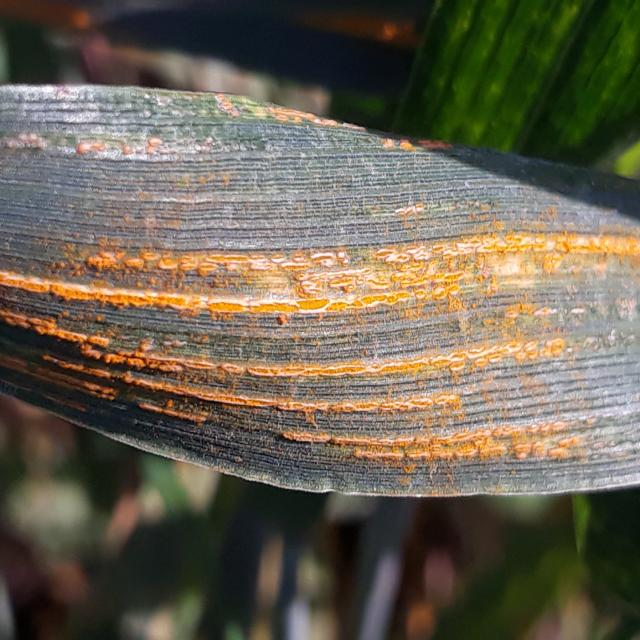yellow_rust: (0, 82, 640, 506), (0, 0, 422, 64)
